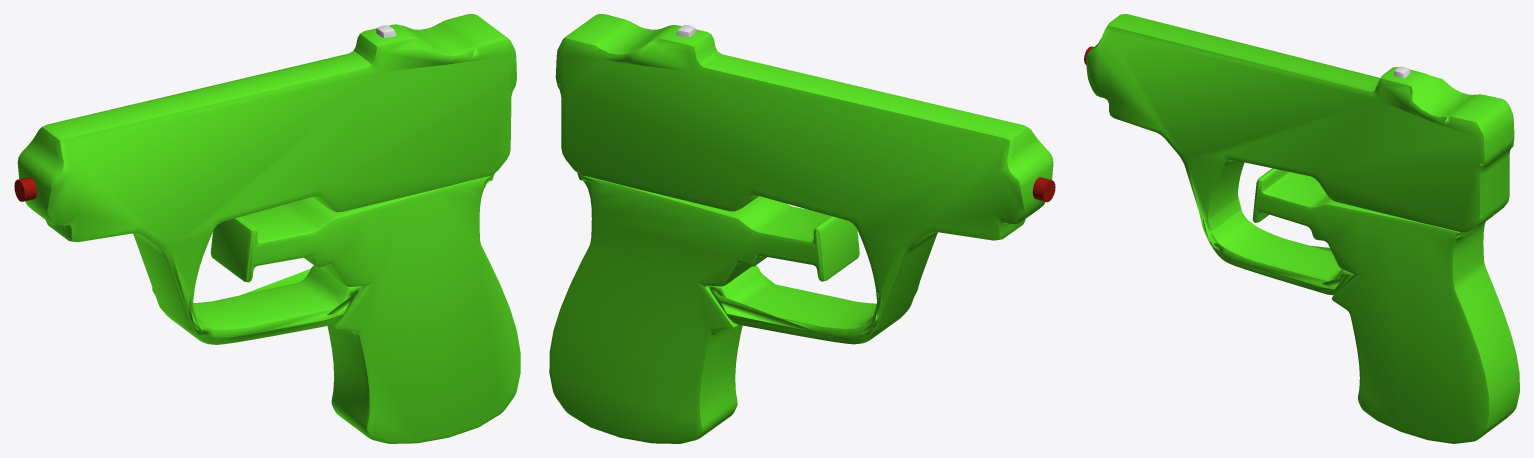
The model's file is PistolaAgua_LowPoly.fbx.
3 views of the same model, side by side, from view 1: azimuth 30°, elevation 25°; view 2: azimuth 150°, elevation 25°; view 3: azimuth 330°, elevation 25° (orthographic). The views are drawn at different scales.
Parts seen in each view (by area): view 1: Armazon, Empuñadura; view 2: Armazon, Empuñadura; view 3: Armazon, Empuñadura.
Part boxes in pixels (box(x1,y1,x2,y2)): Armazon: box(17, 14, 516, 344); Empuñadura: box(210, 173, 520, 443); Armazon: box(555, 14, 1053, 344); Empuñadura: box(549, 172, 859, 443); Armazon: box(1086, 14, 1514, 295); Empuñadura: box(1252, 168, 1519, 443).
Bounding box in the file's own units: 24.04 × 19.44 × 3.37.
